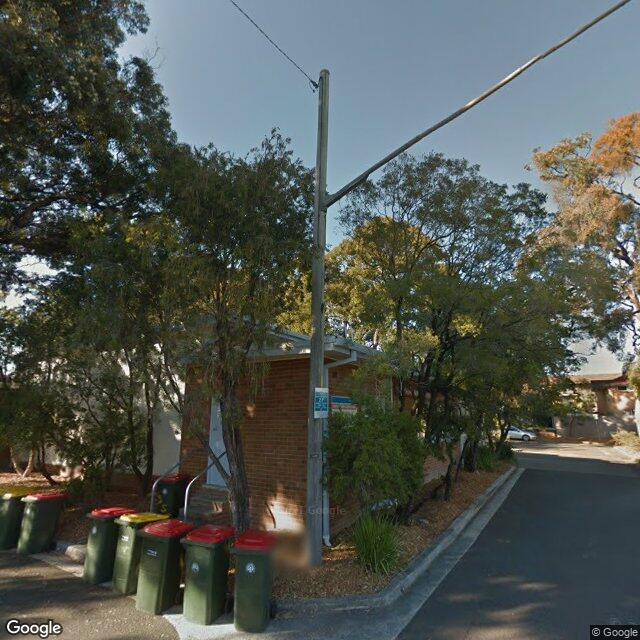streetlight: (326, 0, 631, 208)
timber-pole: (305, 70, 332, 570)
